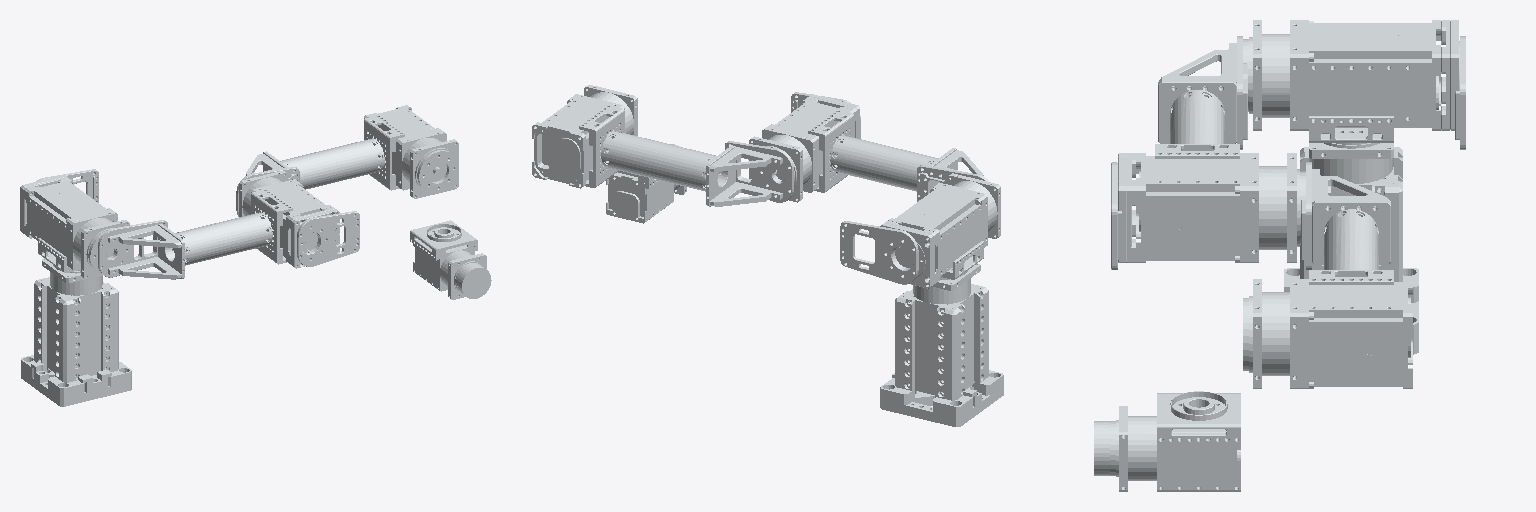
robot.urdf — single_arm_v22_19cm:
<?xml version="1.0" encoding="utf-8"?>
<!-- This URDF was automatically created by SolidWorks to URDF Exporter! Originally created by [author] ([email redacted]) 
     Commit Version: 1.6.0-4-g7f85cfe  Build Version: 1.6.7995.38578
     For more information, please see http://wiki.ros.org/sw_urdf_exporter -->
<robot
  name="single_arm_v22_19cm">
  <link name="dummy"/>
  <joint name="dummy_joint" type="fixed">
    <parent link="dummy"/>
    <child link="base_link"/>
    </joint>
  <link name='base_link'>
  <!-- <link
    name="base_link"> -->
    <inertial>
      <origin
        xyz="-0.00010098 -0.00035109 0.054127"
        rpy="0 0 0" />
      <mass
        value="2.94316" />
      <inertia
        ixx="0.00082016"
        ixy="3.555E-10"
        ixz="-4.1821E-06"
        iyy="0.00081979"
        iyz="-1.4527E-07"
        izz="0.00035328" />
    </inertial>
    <visual>
      <origin
        xyz="0 0 0"
        rpy="0 0 0" />
      <geometry>
        <mesh
          filename="package://single_arm_v22_19cm/meshes/base_link.STL" />
      </geometry>
      <material
        name="">
        <color
          rgba="0.89804 0.91765 0.92941 1" />
      </material>
    </visual>
    <collision>
      <origin
        xyz="0 0 0"
        rpy="0 0 0" />
      <geometry>
        <mesh
          filename="package://single_arm_v22_19cm/meshes/base_link.STL" />
      </geometry>
    </collision>
  </link>
  <link
    name="link1">
    <inertial>
      <origin
        xyz="3.305E-06 0.0036146 0.029085"
        rpy="0 0 0" />
      <mass
        value="0.93428" />
      <inertia
        ixx="0.00048112"
        ixy="-7.0827E-08"
        ixz="-3.5566E-10"
        iyy="0.00018986"
        iyz="4.1821E-06"
        izz="0.0004948" />
    </inertial>
    <visual>
      <origin
        xyz="0 0 0"
        rpy="0 0 0" />
      <geometry>
        <mesh
          filename="package://single_arm_v22_19cm/meshes/link1.STL" />
      </geometry>
      <material
        name="">
        <color
          rgba="0.89804 0.91765 0.92941 1" />
      </material>
    </visual>
    <collision>
      <origin
        xyz="0 0 0"
        rpy="0 0 0" />
      <geometry>
        <mesh
          filename="package://single_arm_v22_19cm/meshes/link1.STL" />
      </geometry>
    </collision>
  </link>
  <joint
    name="joint1"
    type="revolute">
    <origin
      xyz="0 0 0.1445"
      rpy="0 0 0" />
    <parent
      link="base_link" />
    <child
      link="link1" />
    <axis
      xyz="0 0 1" />
    <limit
      lower="-3.14"
      upper="3.14"
      effort="0"
      velocity="0" />
  </joint>
  <link
    name="link2">
    <inertial>
      <origin
        xyz="0.13085 2.3588E-07 0.0069014"
        rpy="0 0 0" />
      <mass
        value="1.07602" />
      <inertia
        ixx="0.00052683"
        ixy="-1.872E-12"
        ixz="3.6733E-07"
        iyy="0.00061287"
        iyz="-4.2672E-10"
        izz="0.00035484" />
    </inertial>
    <visual>
      <origin
        xyz="0 0 0"
        rpy="0 0 0" />
      <geometry>
        <mesh
          filename="package://dynamics/src/dynamics/meshes/merged_single_arm_v22_axis_2.STL" />
      </geometry>
      <material
        name="">
        <color
          rgba="0.89804 0.91765 0.92941 1" />
      </material>
    </visual>
    <collision>
      <origin
        xyz="0 0 0"
        rpy="0 0 0" />
      <geometry>
        <mesh
          filename="package://dynamics/src/dynamics/meshes/merged_single_arm_v22_axis_2.STL" />
      </geometry>
    </collision>
  </link>
  <joint
    name="joint2"
    type="revolute">
    <origin
      xyz="0 -0.0685 0.0315"
      rpy="1.5708 0 0" />
    <parent
      link="link1" />
    <child
      link="link2" />
    <axis
      xyz="0 0 1" />
    <limit
      lower="-3.14"
      upper="3.14"
      effort="0"
      velocity="0" />
  </joint>
  <link
    name="link3">
    <inertial>
      <origin
        xyz="0.12526 2.0553E-07 -0.0051296"
        rpy="0 0 0" />
      <mass
        value="1.00039" />
      <inertia
        ixx="0.00046554"
        ixy="-1.0231E-11"
        ixz="-1.2577E-06"
        iyy="0.00056731"
        iyz="-9.0438E-10"
        izz="0.00033638" />
    </inertial>
    <visual>
      <origin
        xyz="0 0 0"
        rpy="0 0 0" />
      <geometry>
        <mesh
          filename="package://dynamics/src/dynamics/meshes/merged_single_arm_v22_axis_3.STL" />
      </geometry>
      <material
        name="">
        <color
          rgba="0.89804 0.91765 0.92941 1" />
      </material>
    </visual>
    <collision>
      <origin
        xyz="0 0 0"
        rpy="0 0 0" />
      <geometry>
        <mesh
          filename="package://dynamics/src/dynamics/meshes/merged_single_arm_v22_axis_3.STL" />
      </geometry>
    </collision>
  </link>
  <joint
    name="joint3"
    type="revolute">
    <origin
      xyz="0.19 0 -0.0390000000000001"
      rpy="0 0 0" />
    <parent
      link="link2" />
    <child
      link="link3" />
    <axis
      xyz="0 0 -1" />
    <limit
      lower="-3.14"
      upper="3.14"
      effort="0"
      velocity="0" />
  </joint>
  <link
    name="link4">
    <inertial>
      <origin
        xyz="2.2204E-16 0.01039 0.02404"
        rpy="0 0 0" />
      <mass
        value="0.36924" />
      <inertia
        ixx="9.4187E-05"
        ixy="1.2869E-19"
        ixz="-1.4501E-16"
        iyy="4.476E-05"
        iyz="5.3346E-07"
        izz="0.0001027" />
    </inertial>
    <visual>
      <origin
        xyz="0 0 0"
        rpy="0 0 0" />
      <geometry>
        <mesh
          filename="package://single_arm_v22_19cm/meshes/link4.STL" />
      </geometry>
      <material
        name="">
        <color
          rgba="0.89804 0.91765 0.92941 1" />
      </material>
    </visual>
    <collision>
      <origin
        xyz="0 0 0"
        rpy="0 0 0" />
      <geometry>
        <mesh
          filename="package://single_arm_v22_19cm/meshes/link4.STL" />
      </geometry>
    </collision>
  </link>
  <joint
    name="joint4"
    type="revolute">
    <origin
      xyz="0.19 0 0.0390000000000083"
      rpy="0 0 -3.14159265358979" />
    <parent
      link="link3" />
    <child
      link="link4" />
    <axis
      xyz="0 0 1" />
    <limit
      lower="-3.14"
      upper="3.14"
      effort="0"
      velocity="0" />
  </joint>
  <link
    name="link5">
    <inertial>
      <origin
        xyz="0.028614 0.010457 -3.3307E-16"
        rpy="0 0 0" />
      <mass
        value="0.36821" />
      <inertia
        ixx="0.00010133"
        ixy="5.3346E-07"
        ixz="1.4501E-16"
        iyy="4.3878E-05"
        iyz="-8.1817E-20"
        izz="9.3658E-05" />
    </inertial>
    <visual>
      <origin
        xyz="0 0 0"
        rpy="0 0 0" />
      <geometry>
        <mesh
          filename="package://single_arm_v22_19cm/meshes/link5.STL" />
      </geometry>
      <material
        name="">
        <color
          rgba="0.89804 0.91765 0.92941 1" />
      </material>
    </visual>
    <collision>
      <origin
        xyz="0 0 0"
        rpy="0 0 0" />
      <geometry>
        <mesh
          filename="package://single_arm_v22_19cm/meshes/link5.STL" />
      </geometry>
    </collision>
  </link>
  <joint
    name="joint5"
    type="revolute">
    <origin
      xyz="0 0.052 0.0286"
      rpy="1.5707963267949 0 1.5707963267949" />
    <parent
      link="link4" />
    <child
      link="link5" />
    <axis
      xyz="1 0 0" />
    <limit
      lower="-3.14"
      upper="3.14"
      effort="0"
      velocity="0" />
  </joint>
  <link
    name="link6">
    <inertial>
      <origin
        xyz="-4.44089209850063E-16 5.37938091366846E-07 -0.00700006055550936"
        rpy="0 0 0" />
      <mass
        value="0.0259770442543706" />
      <inertia
        ixx="2.20534281951167E-06"
        ixy="1.78671012311437E-22"
        ixz="-8.79317315621994E-22"
        iyy="2.20534281951168E-06"
        iyz="2.32583060538047E-20"
        izz="3.9777349014505E-06" />
    </inertial>
    <visual>
      <origin
        xyz="0 0 0"
        rpy="0 0 0" />
      <geometry>
        <mesh
          filename="package://single_arm_v22_19cm/meshes/link6.STL" />
      </geometry>
      <material
        name="">
        <color
          rgba="0.898039215686275 0.917647058823529 0.929411764705882 1" />
      </material>
    </visual>
    <collision>
      <origin
        xyz="0 0 0"
        rpy="0 0 0" />
      <geometry>
        <mesh
          filename="package://single_arm_v22_19cm/meshes/link6.STL" />
      </geometry>
    </collision>
  </link>
  <joint
    name="joint6"
    type="revolute">
    <origin
      xyz="0.0330005379381037 0.0549999394444907 0"
      rpy="1.57079632679488 -1.5707963267949 0" />
    <parent
      link="link5" />
    <child
      link="link6" />
    <axis
      xyz="0 0 1" />
    <limit
      lower="-3.14"
      upper="3.14"
      effort="0"
      velocity="0" />
  </joint>
</robot>

--- What the picture shows (computed from the rendered views, not written in the file) ---
The picture shows the robot from 3 angles, left to right: view 1: azimuth 30°, elevation 25°; view 2: azimuth 150°, elevation 25°; view 3: azimuth 270°, elevation 25°; orthographic projection.
Robot: single_arm_v22_19cm — 8 links, 7 joints (6 revolute, 1 fixed); root link dummy; default pose: all joints at 0.
Visible links, largest first — view 1: link2, link3, base_link, link1, link5, link6; view 2: link3, link2, base_link, link1, link5; view 3: link2, link3, link1, link5, base_link, link6.
Link boxes in pixels (x1,y1,x2,y2): link2: (36,169,339,279); link3: (236,105,458,266); base_link: (21,258,131,406); link1: (20,175,129,278); link5: (410,220,486,299); link6: (457,264,491,298); link3: (532,85,860,206); link2: (749,94,989,284); base_link: (880,263,1003,426); link1: (880,173,1000,288); link5: (606,171,686,223); link2: (1118,36,1465,262); link3: (1111,162,1412,388); link1: (1243,20,1459,142); link5: (1110,391,1240,491); base_link: (1284,143,1418,354); link6: (1094,421,1109,475).
Bounding box of the posed robot: 0.46 × 0.2371 × 0.206 m (x, y, z).
6 mesh visuals loaded from 7 distinct referenced files (6 binary STL); not drawn: 1 (reference not matched to a file when rendering).